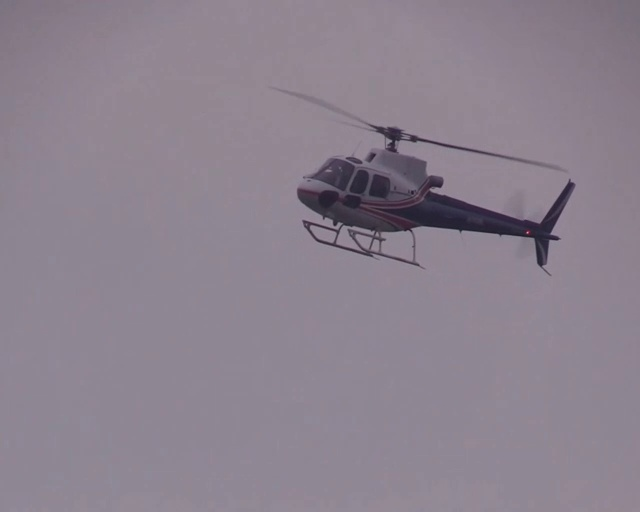HELICOPTER: (271, 83, 577, 272)
